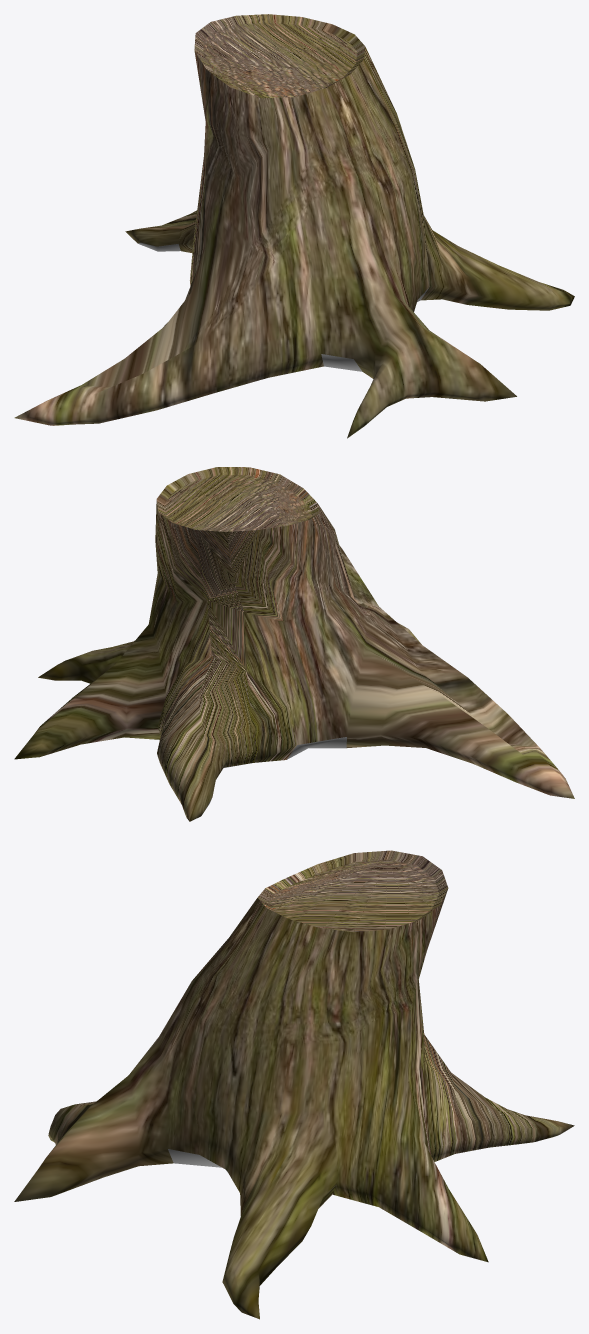
Rendered from trunk3.fbx.
3 renders of one model, top to bottom at view 1: azimuth 30°, elevation 25°; view 2: azimuth 150°, elevation 25°; view 3: azimuth 270°, elevation 25°, orthographic. The views are drawn at different scales.
Parts seen in each view (by area): view 1: Line01; view 2: Line01; view 3: Line01.
Part boxes in pixels (x1,y1,x2,y2): Line01: [14, 14, 574, 438]; Line01: [14, 467, 574, 821]; Line01: [14, 850, 574, 1319].
Size of the model in its own units: 11.4 by 5.52 by 9.22.
